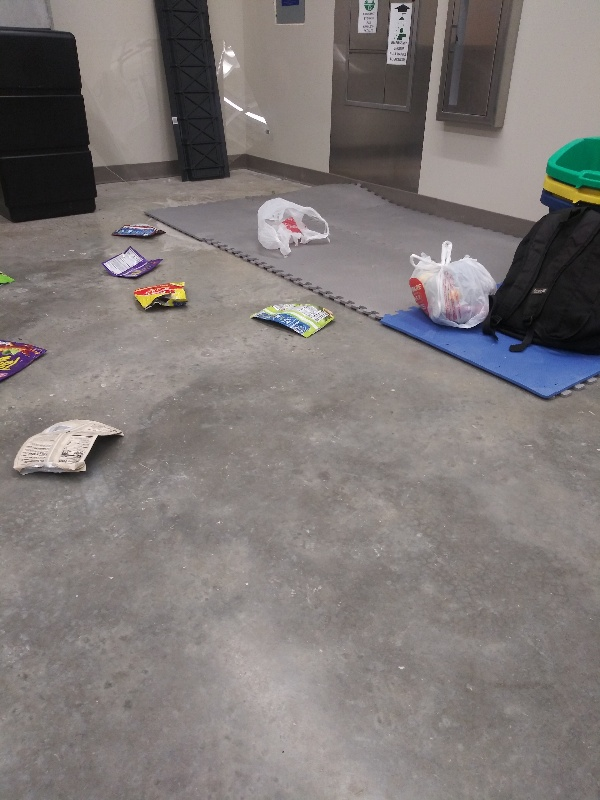bag: (10, 411, 128, 482), (247, 300, 337, 339), (1, 335, 49, 388), (96, 244, 168, 279), (129, 279, 191, 314), (107, 219, 167, 243)
